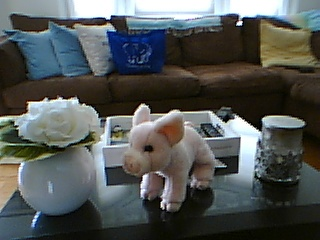piggy: (122, 101, 217, 214)
